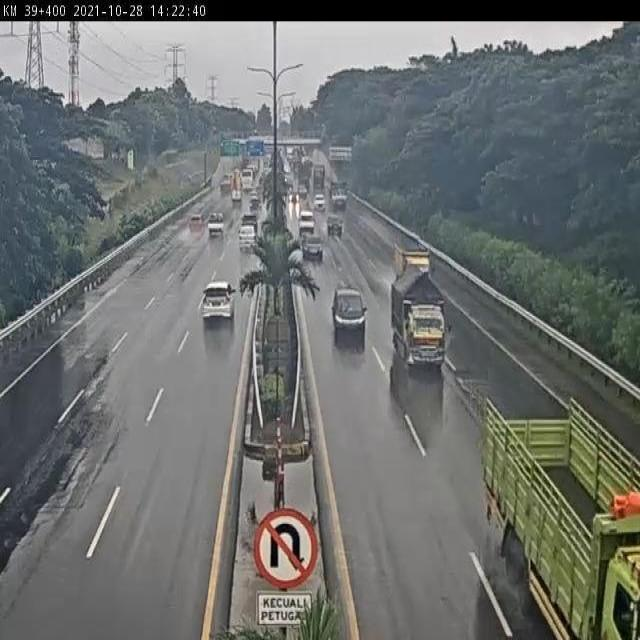Car: (331, 286, 368, 348), (202, 280, 236, 324), (301, 234, 324, 261), (238, 224, 255, 251), (208, 213, 225, 237), (298, 209, 314, 233), (327, 215, 344, 237), (241, 168, 254, 190), (313, 193, 326, 211)
Truck: (482, 397, 640, 640), (392, 266, 446, 367)
